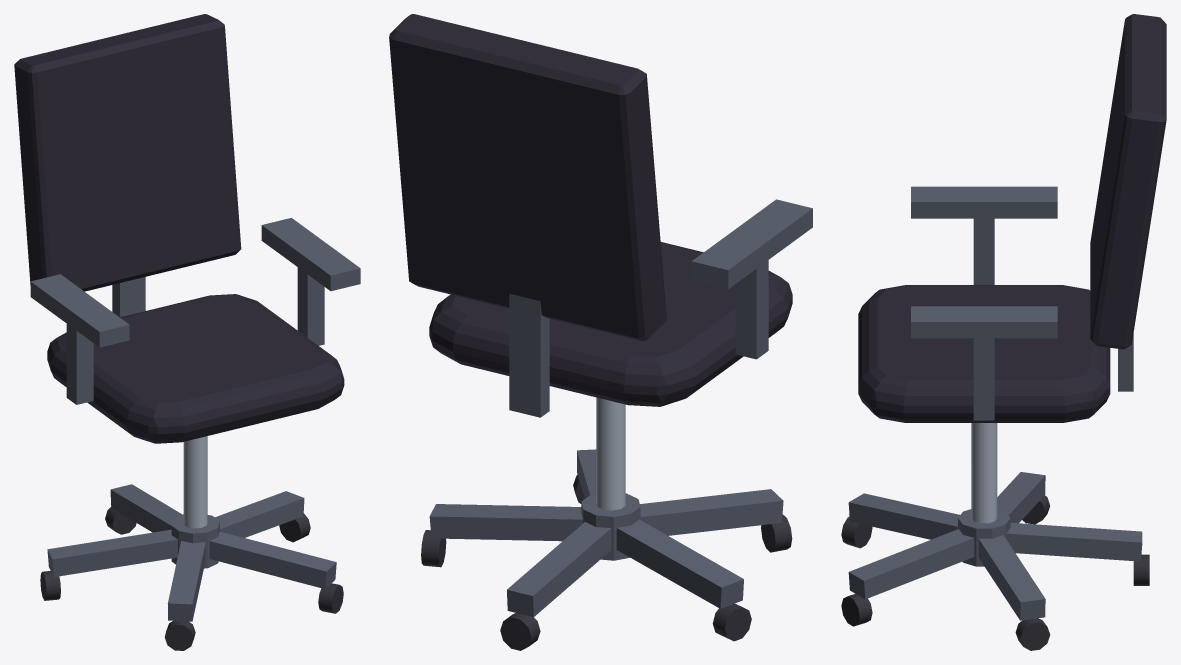
The model's file is office-chair.glb.
3 renders of one model, left to right at view 1: azimuth 30°, elevation 25°; view 2: azimuth 150°, elevation 25°; view 3: azimuth 270°, elevation 25°, orthographic. The views are drawn at different scales.
Visible parts, largest first — view 1: Chair back, Chair seat, Chair base, Chair arms, Chair casters, Chair column, Chair back bar; view 2: Chair back, Chair seat, Chair base, Chair arms, Chair back bar, Chair casters, Chair column; view 3: Chair seat, Chair back, Chair base, Chair arms, Chair casters, Chair column, Chair back bar.
Part boxes in pixels (bbox=[...]): Chair back: bbox=[14, 14, 241, 291]; Chair seat: bbox=[47, 294, 344, 443]; Chair base: bbox=[47, 484, 336, 621]; Chair arms: bbox=[30, 218, 360, 404]; Chair casters: bbox=[40, 507, 343, 650]; Chair column: bbox=[183, 436, 207, 528]; Chair back bar: bbox=[112, 277, 145, 317]; Chair back: bbox=[389, 14, 666, 340]; Chair seat: bbox=[429, 242, 792, 406]; Chair base: bbox=[429, 449, 783, 617]; Chair arms: bbox=[691, 199, 812, 359]; Chair back bar: bbox=[509, 293, 549, 417]; Chair casters: bbox=[421, 475, 792, 650]; Chair column: bbox=[596, 397, 625, 510]; Chair seat: bbox=[858, 285, 1110, 422]; Chair back: bbox=[1090, 14, 1166, 349]; Chair base: bbox=[848, 472, 1142, 620]; Chair arms: bbox=[911, 186, 1057, 420]; Chair casters: bbox=[841, 495, 1149, 650]; Chair column: bbox=[971, 423, 997, 523]; Chair back bar: bbox=[1118, 334, 1133, 391].
Bounding box in the file's own units: 0.6177 × 1.1 × 0.6201.
